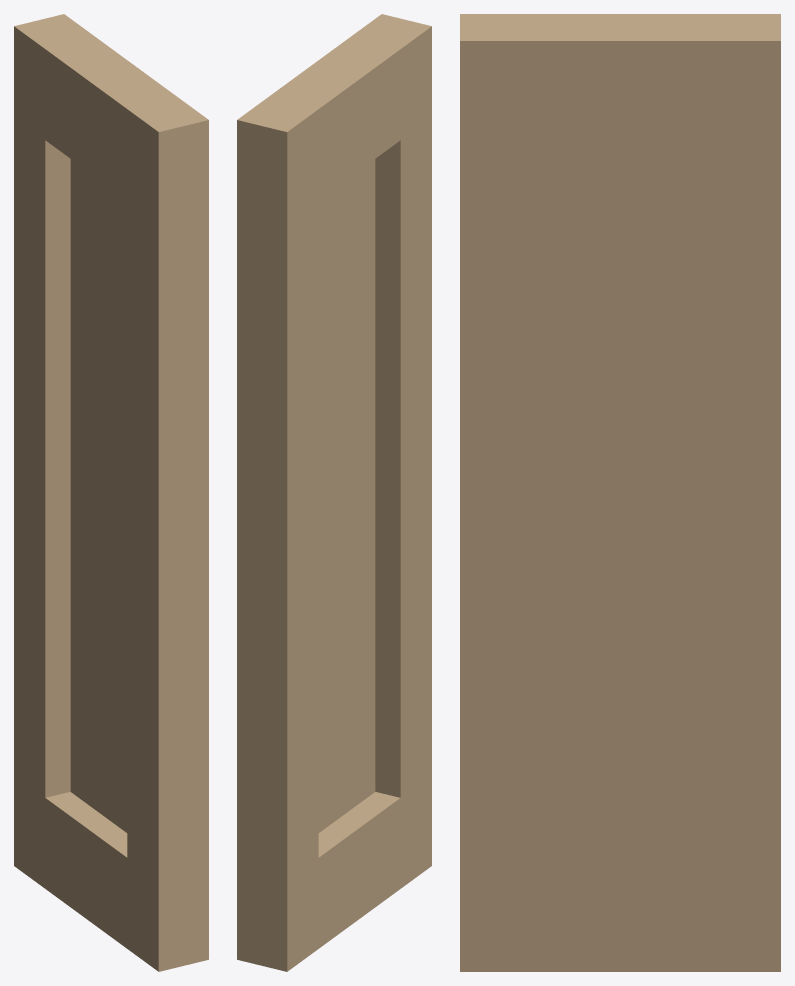
The model's file is Building Door 6.fbx.
3 views of the same model, side by side, from view 1: azimuth 30°, elevation 25°; view 2: azimuth 150°, elevation 25°; view 3: azimuth 270°, elevation 25° (orthographic). The views are drawn at different scales.
Parts seen in each view (by area): view 1: Building Door 6; view 2: Building Door 6; view 3: Building Door 6.
Part boxes in pixels (box(x1,y1,x2,y2)): Building Door 6: box(14, 14, 208, 971); Building Door 6: box(237, 14, 431, 971); Building Door 6: box(460, 14, 780, 971).
Size of the model in its own units: 0.05 by 0.8 by 0.25.
